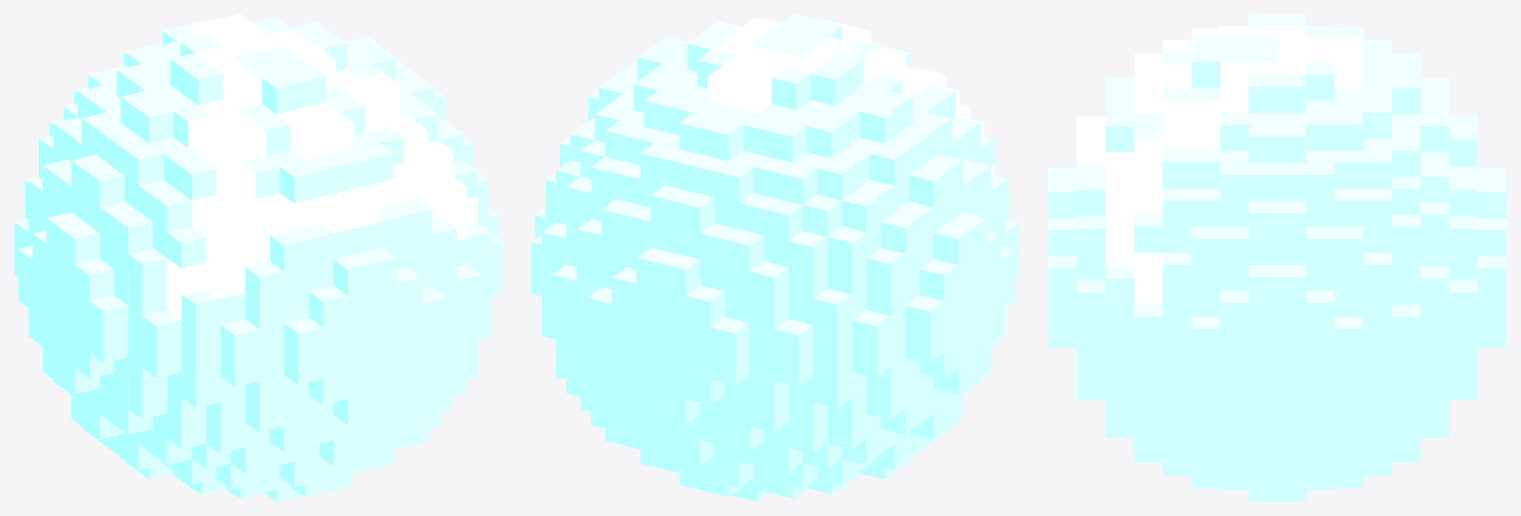
The model's file is item_ALCHEMIZE.glb.
3 views of the same model, side by side, from view 1: azimuth 30°, elevation 25°; view 2: azimuth 150°, elevation 25°; view 3: azimuth 270°, elevation 25° (orthographic).
Visible parts, largest first — view 1: item_ALCHEMIZE; view 2: item_ALCHEMIZE; view 3: item_ALCHEMIZE.
Part boxes in pixels (left/top/right/bottom): item_ALCHEMIZE: left=14, top=14, right=502, bottom=501; item_ALCHEMIZE: left=531, top=14, right=1019, bottom=501; item_ALCHEMIZE: left=1048, top=14, right=1506, bottom=501.
Bounding box in the file's own units: 0.1818 × 0.1818 × 0.1818.
Materials: 1 (1 with a texture image).
